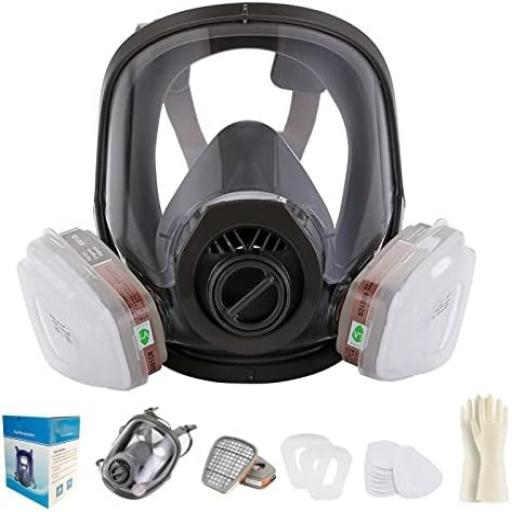mask: (16, 112, 473, 392)
